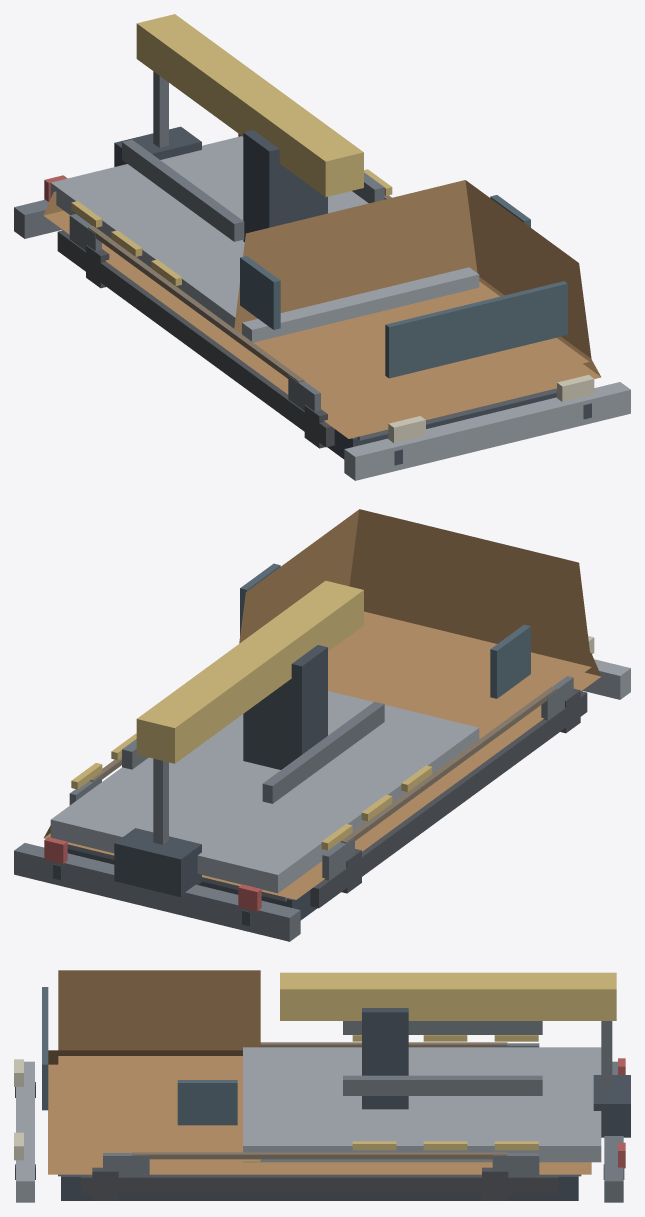
File: hookjaw.glb
The picture shows the model from 3 angles, top to bottom: view 1: azimuth 30°, elevation 25°; view 2: azimuth 150°, elevation 25°; view 3: azimuth 270°, elevation 25°; orthographic projection. The views are drawn at different scales.
Visible parts, largest first — view 1: hookjaw_batch01, hookjaw_batch05, hookjaw_batch09, hookjaw_batch08, hookjaw_batch02, hookjaw_batch00, hookjaw_batch03, hookjaw_batch04, hookjaw_batch06; view 2: hookjaw_batch01, hookjaw_batch05, hookjaw_batch09, hookjaw_batch02, hookjaw_batch00, hookjaw_batch03, hookjaw_batch08, hookjaw_batch04, hookjaw_batch07; view 3: hookjaw_batch01, hookjaw_batch05, hookjaw_batch09, hookjaw_batch02, hookjaw_batch03, hookjaw_batch00, hookjaw_batch04, hookjaw_batch08, hookjaw_batch06, hookjaw_batch07.
Part boxes in pixels (x1,y1,x2,y2): hookjaw_batch01: [43, 180, 601, 438]; hookjaw_batch05: [50, 136, 630, 480]; hookjaw_batch09: [71, 14, 392, 285]; hookjaw_batch08: [240, 195, 567, 378]; hookjaw_batch02: [14, 71, 556, 440]; hookjaw_batch00: [62, 126, 591, 465]; hookjaw_batch03: [57, 230, 334, 448]; hookjaw_batch04: [88, 195, 391, 382]; hookjaw_batch06: [388, 375, 594, 443]; hookjaw_batch01: [44, 509, 601, 899]; hookjaw_batch05: [50, 659, 630, 893]; hookjaw_batch09: [71, 580, 432, 850]; hookjaw_batch02: [14, 676, 573, 941]; hookjaw_batch00: [53, 645, 582, 926]; hookjaw_batch03: [310, 688, 587, 908]; hookjaw_batch08: [240, 523, 530, 698]; hookjaw_batch04: [90, 686, 556, 843]; hookjaw_batch07: [44, 837, 261, 911]; hookjaw_batch01: [48, 970, 591, 1174]; hookjaw_batch05: [16, 1047, 601, 1202]; hookjaw_batch09: [280, 972, 616, 1150]; hookjaw_batch02: [58, 1021, 623, 1202]; hookjaw_batch03: [81, 1167, 558, 1200]; hookjaw_batch00: [15, 1008, 630, 1200]; hookjaw_batch04: [132, 1042, 507, 1159]; hookjaw_batch08: [42, 987, 237, 1125]; hookjaw_batch06: [14, 1059, 23, 1160]; hookjaw_batch07: [618, 1058, 625, 1168].
Bounding box in the file's own units: 5.18 × 3.43 × 11.28.
